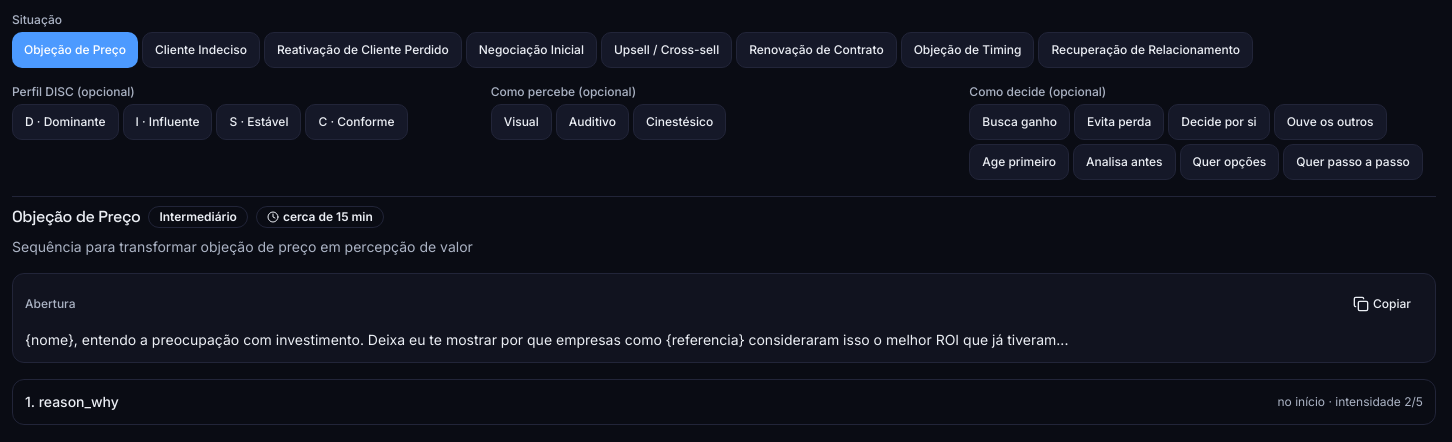
Scenario: BundlesTab › oferece as 8 situações e troca o roteiro ao escolher outra
The image size is (1452, 442).
Expected: the button "Objeção de Preço" is shown, [12, 32, 138, 68]
Expected: the button "Cliente Indeciso" is shown, [142, 32, 260, 68]
Click the button "Renovação de Contrato".
click(816, 50)  # box [736, 32, 897, 68]
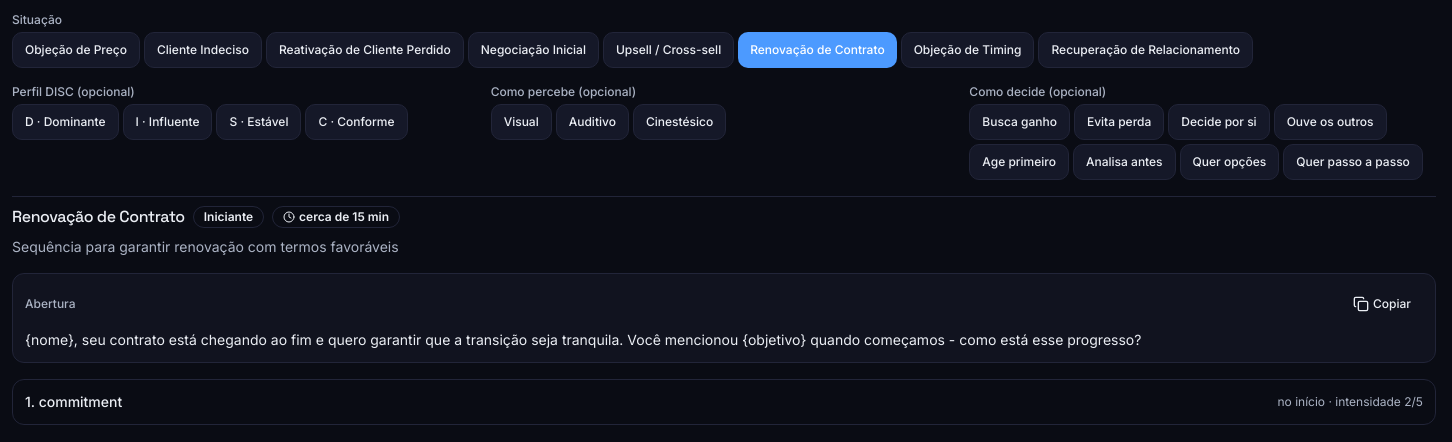
Now the heading "Renovação de Contrato" is shown, box [12, 205, 185, 229]
